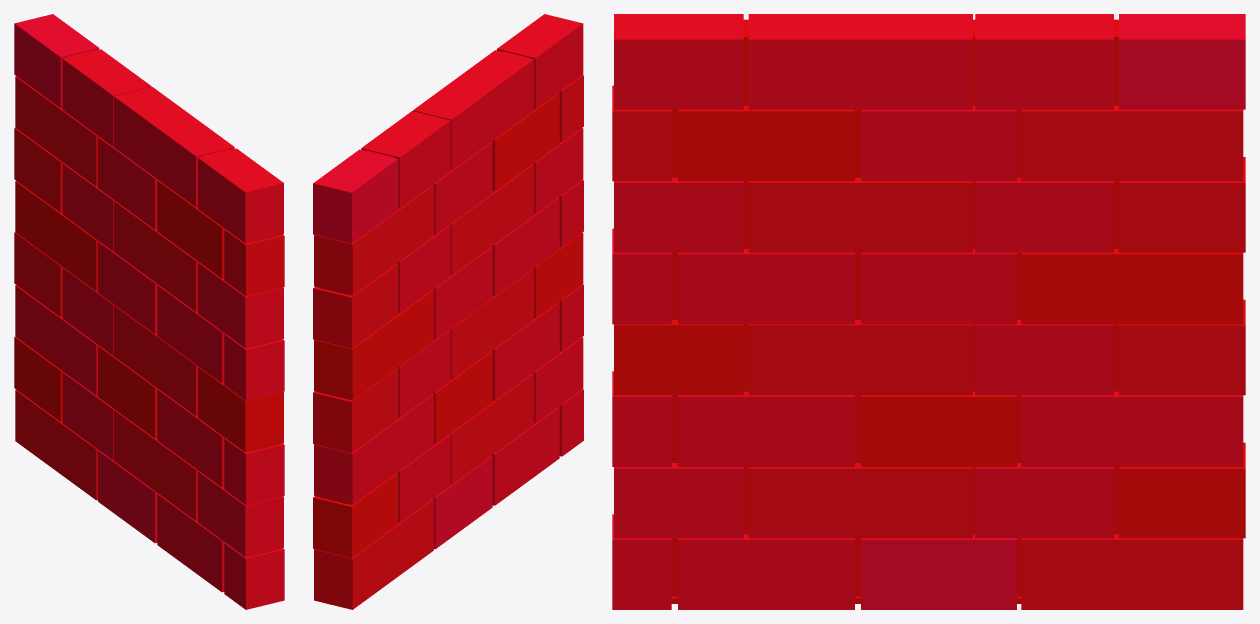
The model's file is brickWall.obj.
3 renders of one model, left to right at view 1: azimuth 30°, elevation 25°; view 2: azimuth 150°, elevation 25°; view 3: azimuth 270°, elevation 25°, orthographic. The views are drawn at different scales.
Parts seen in each view (by area): view 1: CreamWall.003_Cube.030; view 2: CreamWall.003_Cube.030; view 3: CreamWall.003_Cube.030.
Part boxes in pixels (left/top/right/bottom): CreamWall.003_Cube.030: left=14, top=14, right=284, bottom=609; CreamWall.003_Cube.030: left=313, top=14, right=583, bottom=609; CreamWall.003_Cube.030: left=612, top=14, right=1245, bottom=609.
Bounding box in the file's own units: 0.0975 × 1.01 × 1.01.
